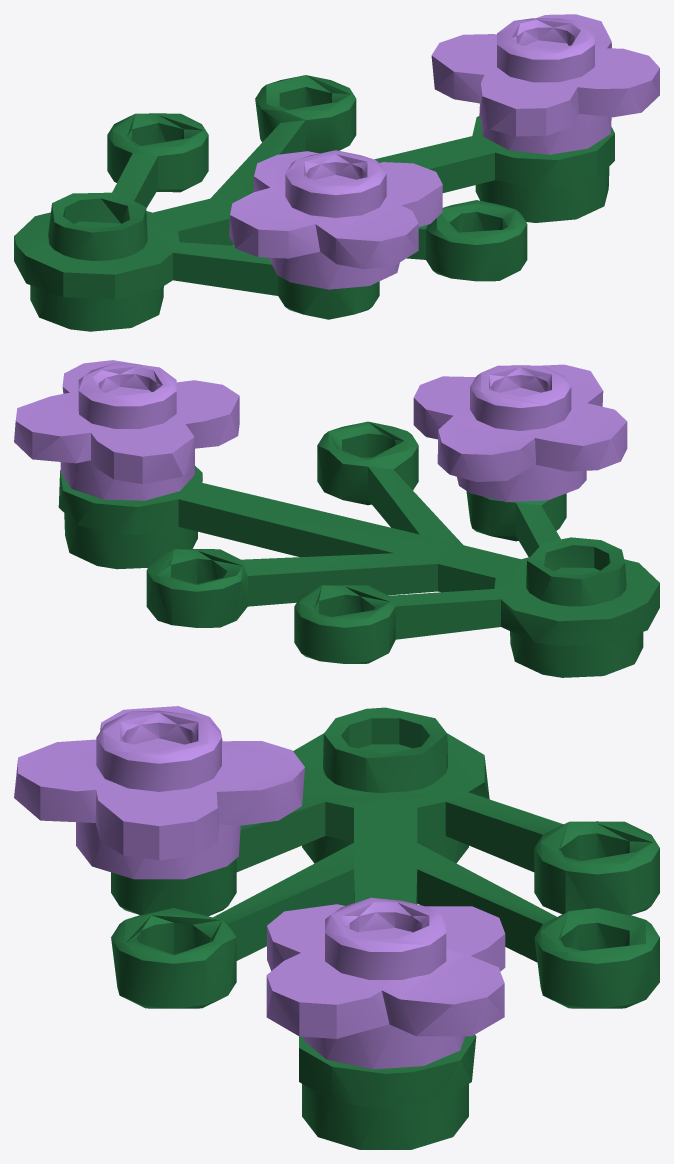
Rendered from frog_stem_b_purple.glb.
The picture shows the model from 3 angles, top to bottom: view 1: azimuth 30°, elevation 25°; view 2: azimuth 150°, elevation 25°; view 3: azimuth 270°, elevation 25°; orthographic projection. The views are drawn at different scales.
Visible parts, largest first — view 1: frog_stem_b_purple; view 2: frog_stem_b_purple; view 3: frog_stem_b_purple.
Boxes of the visible parts, x1,y1,x2,y2 form: frog_stem_b_purple: (14, 14, 659, 331); frog_stem_b_purple: (14, 360, 659, 677); frog_stem_b_purple: (14, 706, 659, 1149).
Bounding box in the file's own units: 1.17 × 0.3053 × 0.875.
